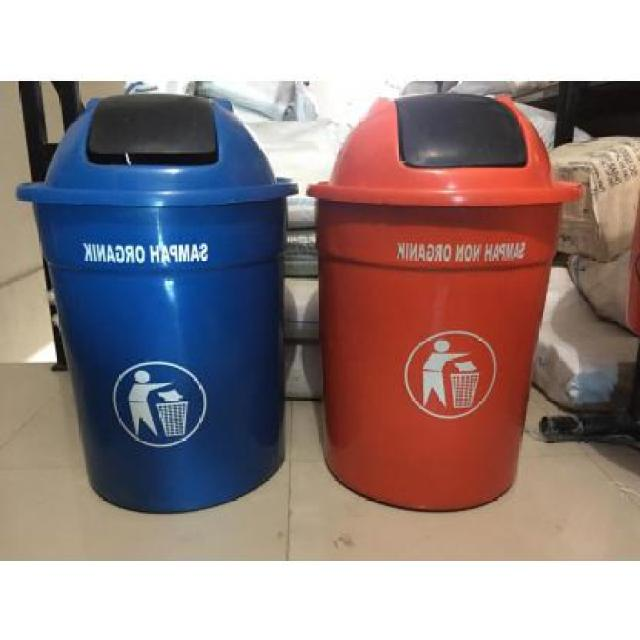garbage container: (5, 89, 302, 525), (304, 86, 587, 520)
